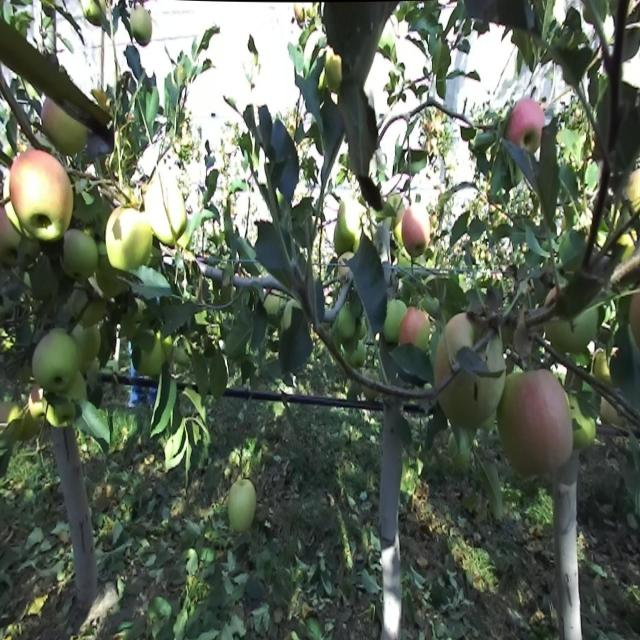apple: (494, 362, 575, 482), (12, 148, 76, 244), (12, 148, 60, 240), (104, 205, 153, 276), (40, 99, 88, 158), (148, 179, 188, 249), (444, 312, 482, 375), (508, 99, 547, 155), (432, 326, 464, 391), (64, 227, 98, 286), (156, 191, 188, 249), (400, 205, 432, 256), (96, 255, 128, 304), (228, 483, 258, 535), (400, 305, 433, 350), (76, 319, 103, 373), (336, 205, 362, 258), (0, 20, 26, 73), (0, 205, 23, 263), (140, 333, 165, 382), (432, 340, 453, 393), (616, 227, 640, 272), (0, 397, 25, 439), (324, 49, 344, 94), (132, 8, 153, 50), (28, 383, 47, 425), (84, 298, 107, 332), (624, 170, 640, 215), (632, 291, 640, 347), (160, 326, 175, 354), (84, 6, 103, 28)
